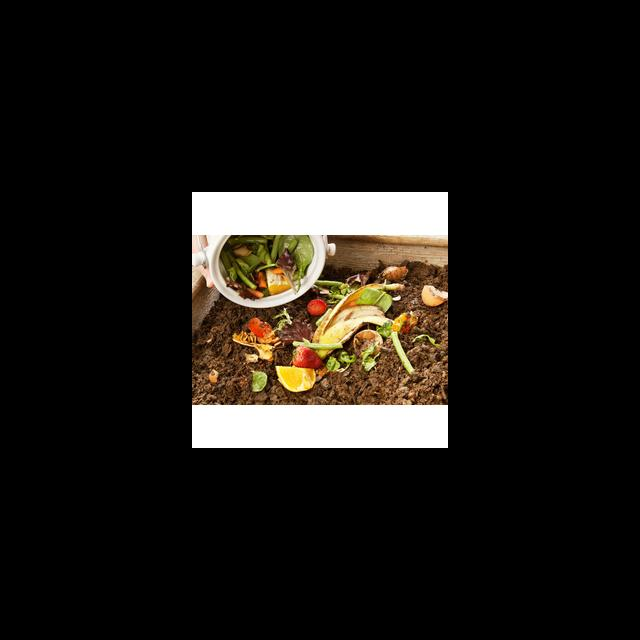food_waste: (232, 263, 419, 395), (225, 237, 308, 295), (422, 284, 446, 307), (249, 372, 267, 392), (206, 368, 220, 385)
